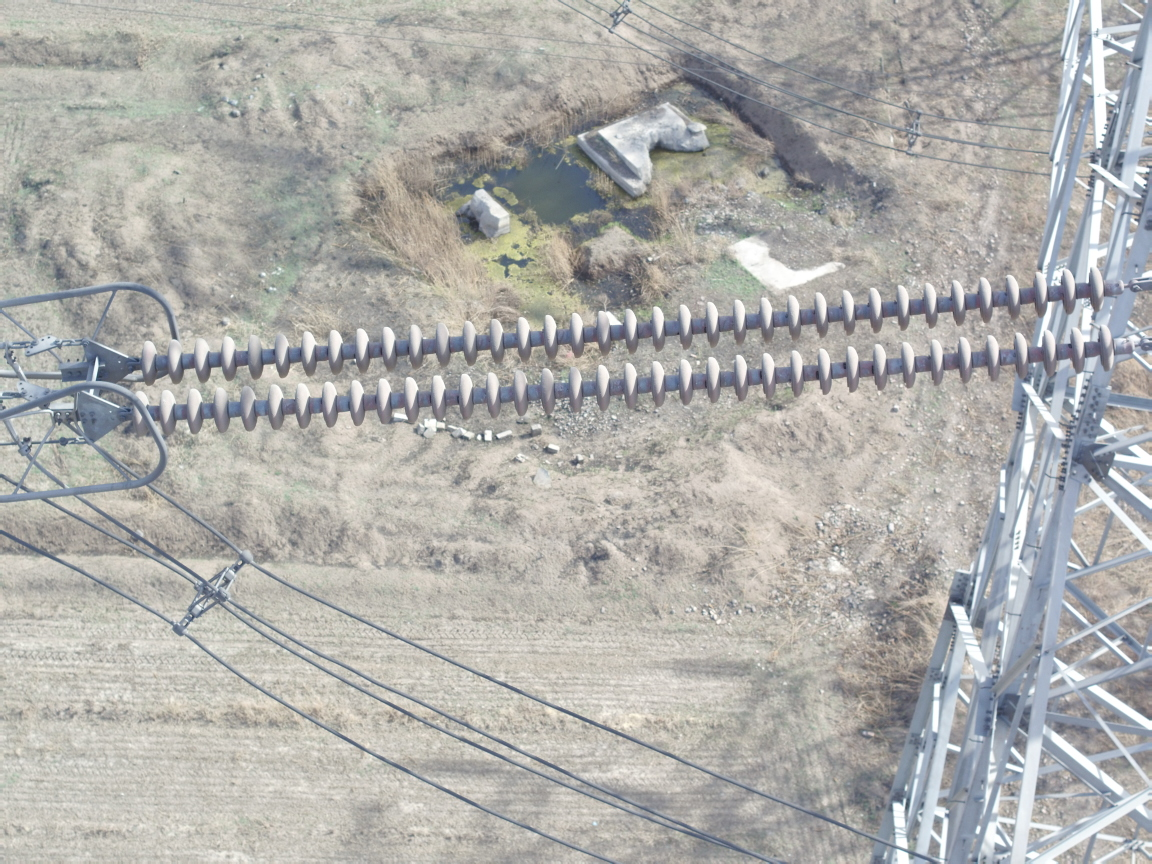insulator: (108, 264, 1152, 438)
